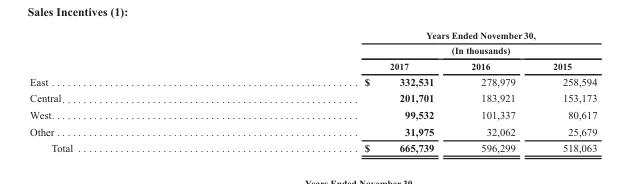table: (29, 29, 596, 153)
table column: (217, 29, 451, 153), (29, 29, 217, 153), (451, 29, 533, 153), (533, 29, 596, 153)
table column header: (29, 29, 596, 73)
table row: (29, 29, 596, 57), (29, 89, 596, 106), (29, 122, 596, 139), (29, 57, 596, 73), (29, 73, 596, 89), (29, 106, 596, 122), (29, 139, 596, 153)
table spanning cell: (217, 29, 596, 57)
